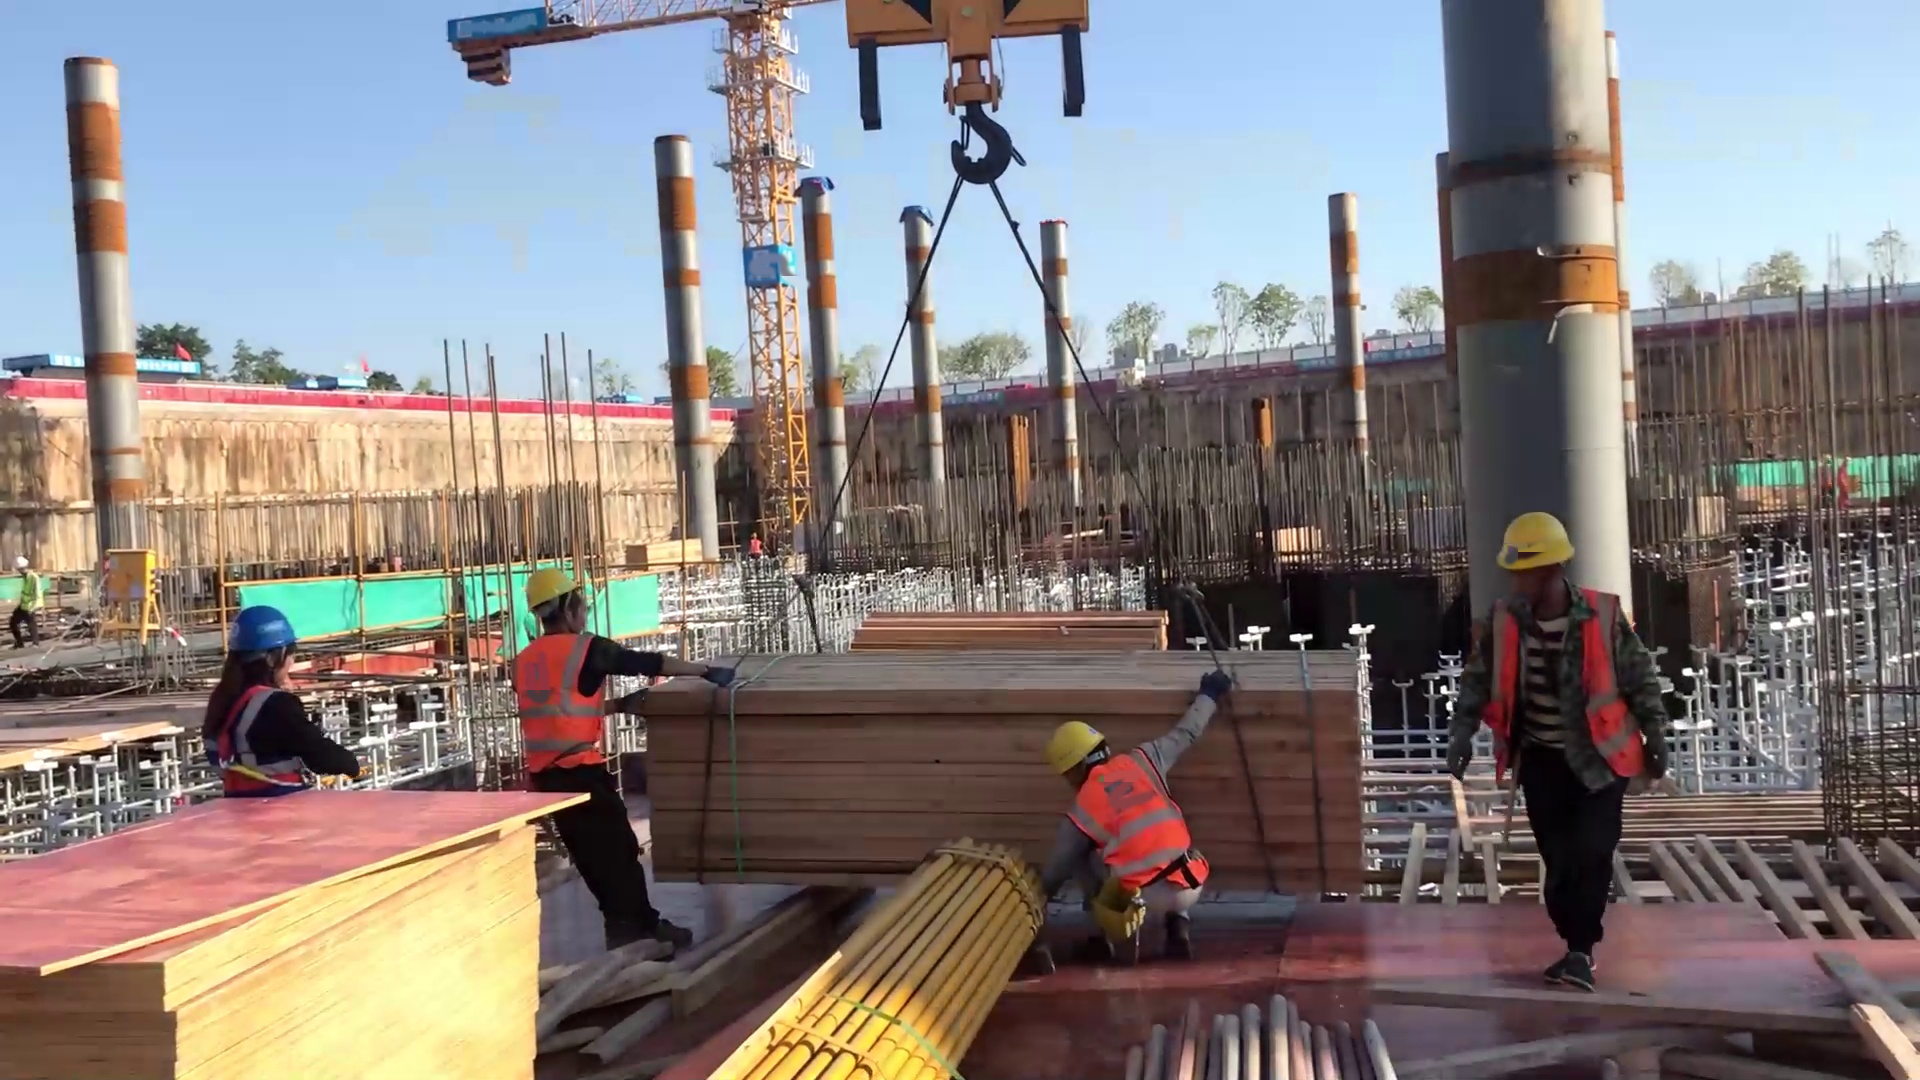helmet: (1481, 510, 1575, 569), (228, 601, 324, 654), (517, 557, 600, 611), (1038, 718, 1108, 773), (12, 546, 42, 564)
person: (1446, 491, 1681, 995), (497, 546, 774, 950), (1011, 658, 1252, 960), (205, 607, 369, 823), (2, 550, 47, 638)
vest: (1474, 576, 1666, 797), (1052, 746, 1205, 903), (506, 627, 620, 779), (198, 677, 316, 791), (11, 568, 52, 614)
